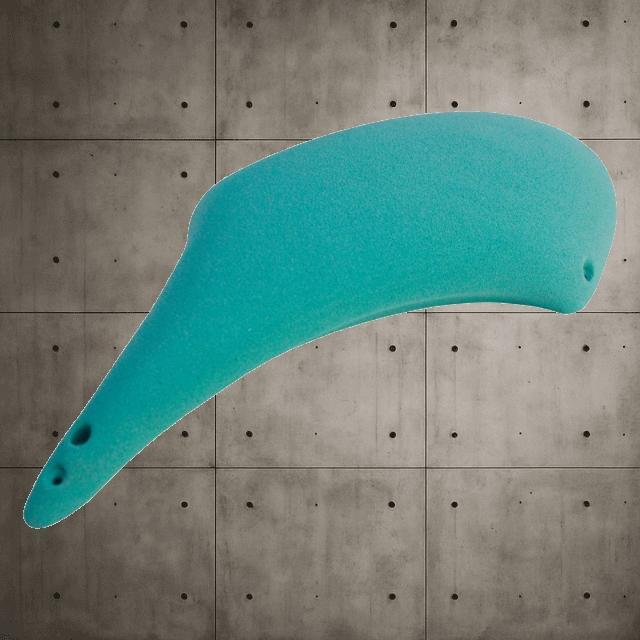Jug: (22, 109, 618, 528)
